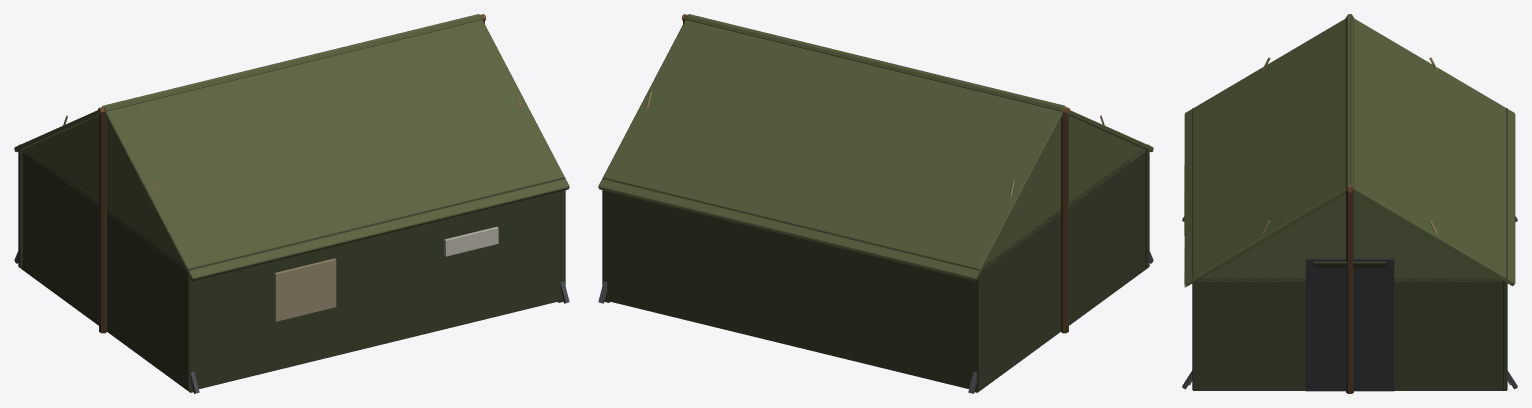
Rendered from lmk_mil_tent.fbx.
3 views of the same model, side by side, from view 1: azimuth 30°, elevation 25°; view 2: azimuth 150°, elevation 25°; view 3: azimuth 270°, elevation 25° (orthographic). The views are drawn at different scales.
Parts seen in each view (by area): view 1: lmk_mil_tent; view 2: lmk_mil_tent; view 3: lmk_mil_tent.
Part boxes in pixels (x1,y1,x2,y2): lmk_mil_tent: (14, 14, 569, 393); lmk_mil_tent: (598, 14, 1153, 393); lmk_mil_tent: (1182, 14, 1517, 393).
Size of the model in its own units: 5.1 by 2.85 by 4.17.
